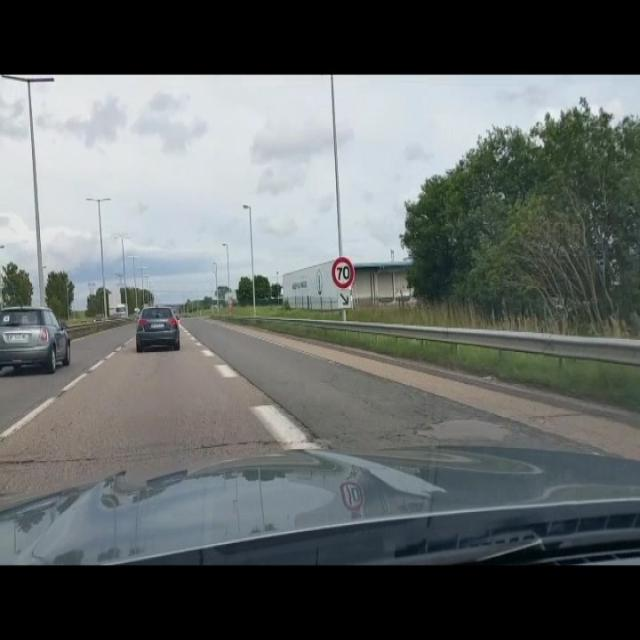side_right: (338, 290, 350, 308)
speed_70: (331, 255, 355, 289)
